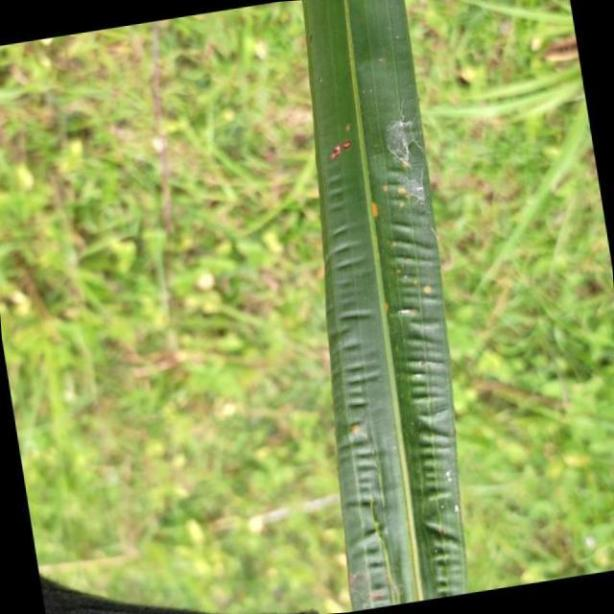Boron: (305, 2, 474, 602)
